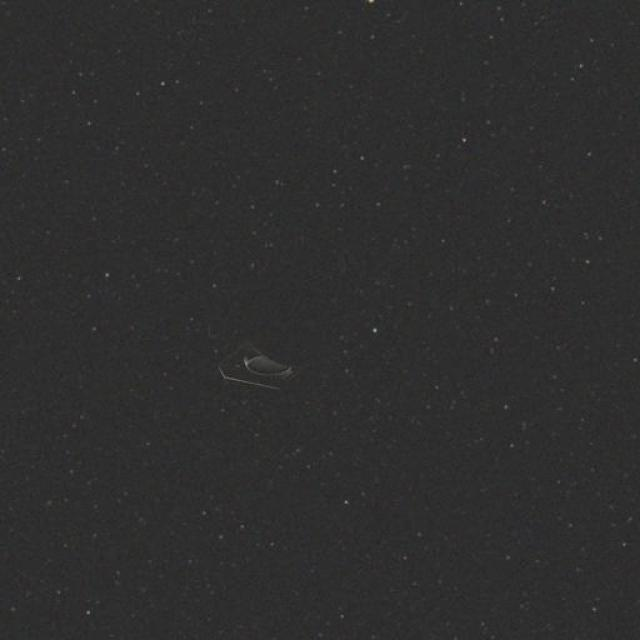proba_3_ocs: (186, 299, 343, 411)
